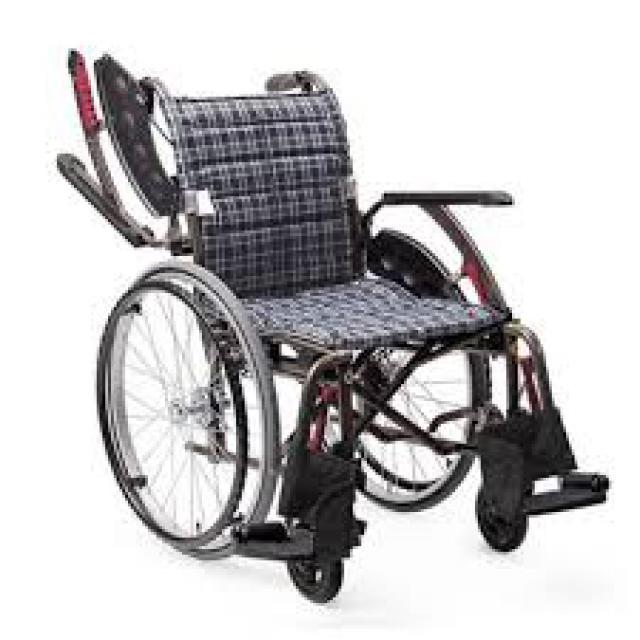wheelchair: (42, 40, 614, 606)
